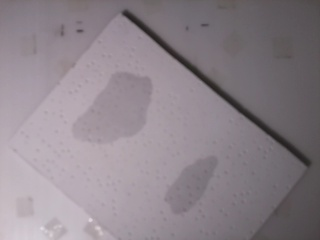Water_detected: (85, 79, 138, 137), (180, 177, 194, 193)
